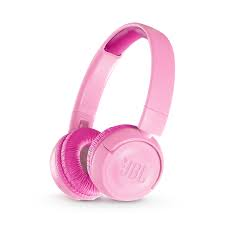headphone: (45, 14, 177, 203)
